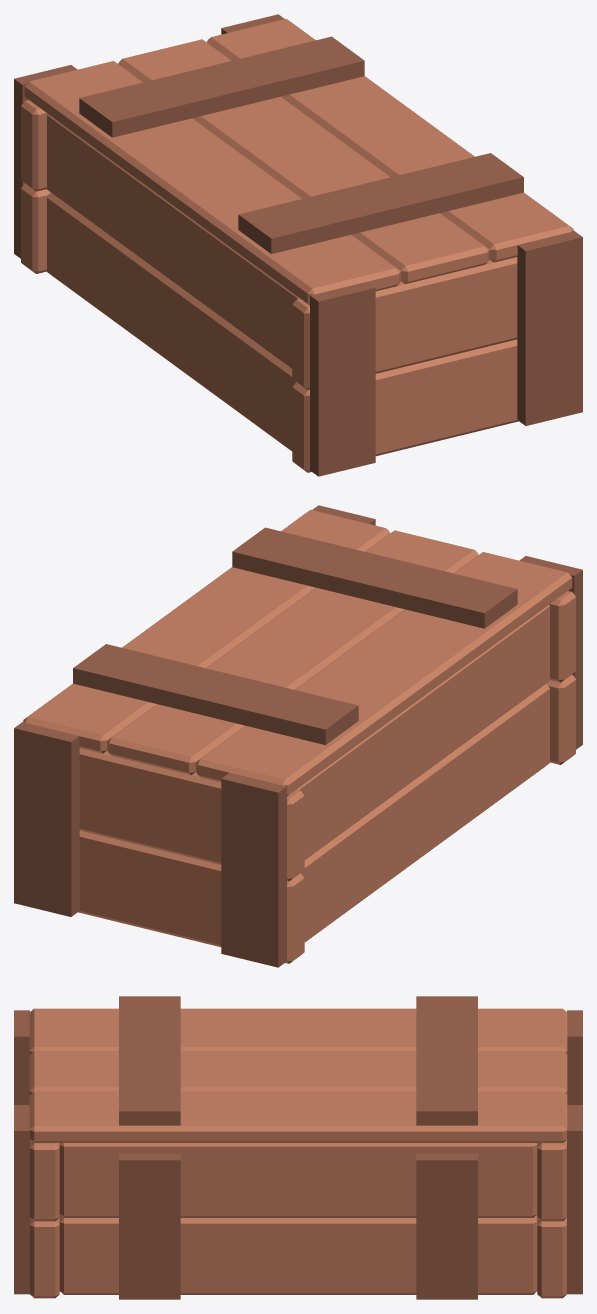
Rendered from Crate.fbx.
The picture shows the model from 3 angles, top to bottom: view 1: azimuth 30°, elevation 25°; view 2: azimuth 150°, elevation 25°; view 3: azimuth 270°, elevation 25°; orthographic projection. The views are drawn at different scales.
Parts seen in each view (by area): view 1: Crate; view 2: Crate; view 3: Crate.
Part boxes in pixels (left/top/right/bottom): Crate: left=14, top=14, right=582, bottom=476; Crate: left=14, top=505, right=582, bottom=967; Crate: left=14, top=996, right=582, bottom=1299.
Size of the model in its own units: 86.38 by 58.6 by 163.
